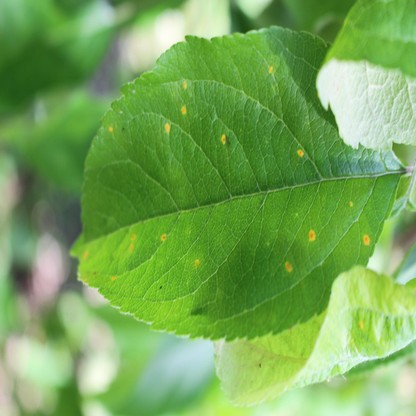rust: (129, 234, 135, 251), (285, 262, 293, 273), (308, 230, 316, 241), (357, 318, 364, 329), (297, 148, 304, 156), (221, 133, 226, 144), (181, 104, 186, 115), (194, 258, 200, 266), (164, 123, 170, 131), (364, 235, 369, 244), (182, 80, 187, 89), (83, 249, 88, 257), (161, 233, 166, 239), (269, 66, 273, 73), (108, 126, 113, 131), (110, 275, 115, 280), (82, 277, 87, 282), (350, 201, 353, 206)
